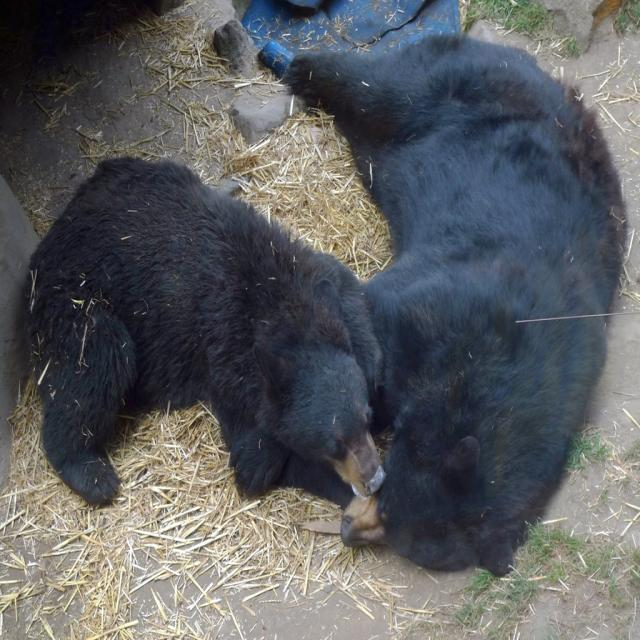Bear: (284, 32, 628, 577), (19, 154, 386, 505)
